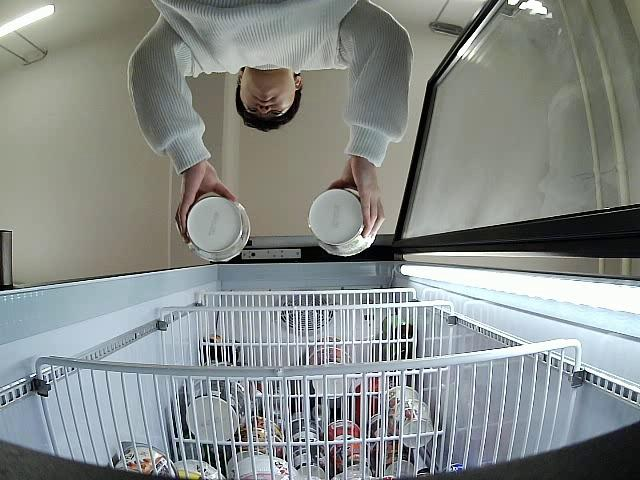00_hand: (175, 169, 237, 245), (328, 165, 384, 241)
03_chapagetti_L: (183, 195, 251, 262), (308, 189, 375, 257)
